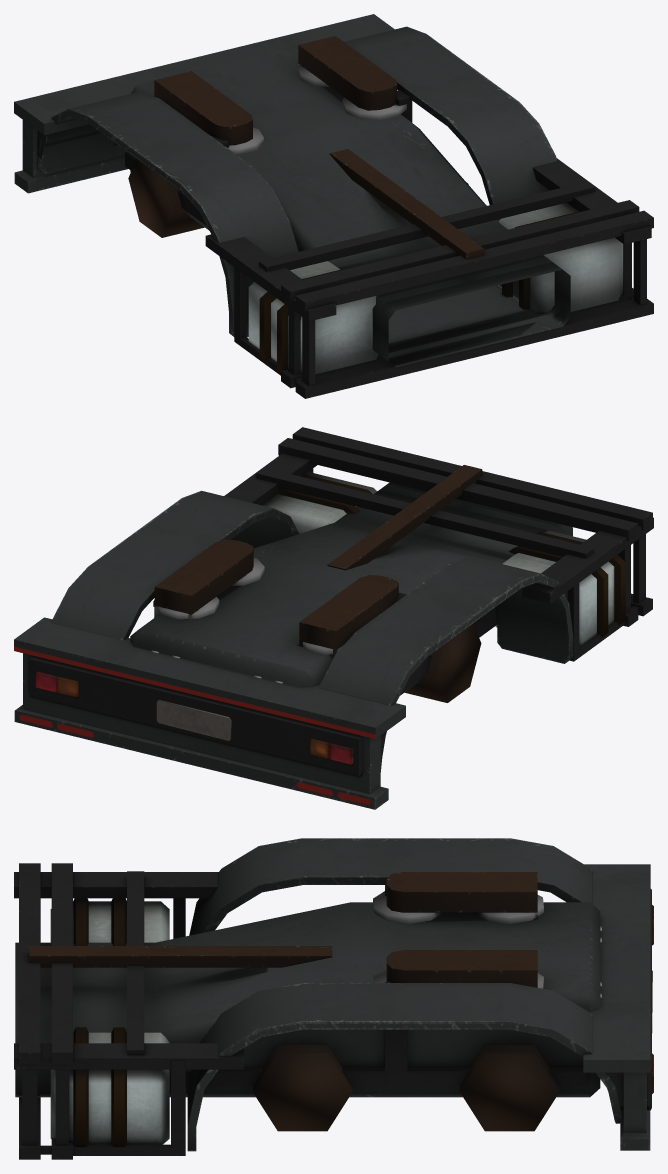
Rendered from alltrucback.fbx.
3 views of the same model, one above another, from view 1: azimuth 30°, elevation 25°; view 2: azimuth 150°, elevation 25°; view 3: azimuth 270°, elevation 25° (orthographic). The views are drawn at different scales.
Parts seen in each view (by area): view 1: Car_4A; view 2: Car_4A; view 3: Car_4A.
Boxes of the visible parts, x1,y1,x2,y2 form: Car_4A: [14, 14, 653, 398]; Car_4A: [14, 427, 653, 809]; Car_4A: [14, 838, 653, 1159].
Size of the model in its own units: 268 by 97.29 by 371.
